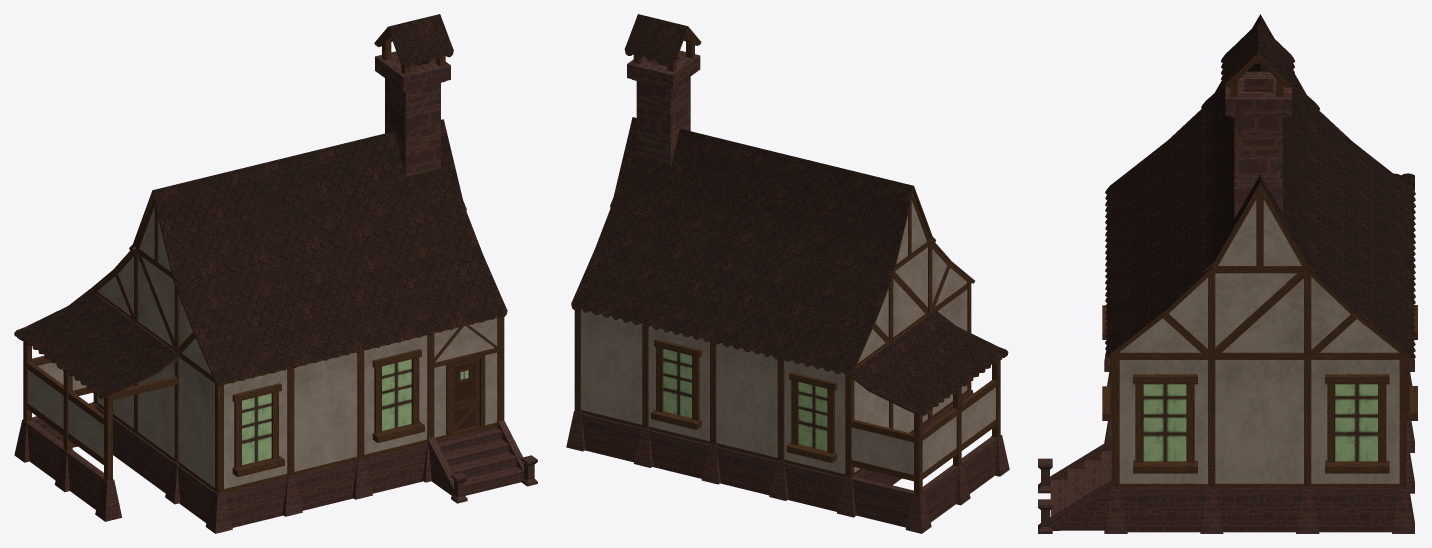
Rendered from small_house_db4bb7a9.glb.
3 views of the same model, side by side, from view 1: azimuth 30°, elevation 25°; view 2: azimuth 150°, elevation 25°; view 3: azimuth 270°, elevation 25° (orthographic). The views are drawn at different scales.
Parts seen in each view (by area): view 1: small_house_db4bb7a9; view 2: small_house_db4bb7a9; view 3: small_house_db4bb7a9.
Boxes of the visible parts, box(x1,y1,x2,y2) form: small_house_db4bb7a9: box(14, 14, 537, 533); small_house_db4bb7a9: box(566, 14, 1009, 533); small_house_db4bb7a9: box(1038, 14, 1417, 533).
Bounding box in the file's own units: 10.63 × 11.01 × 7.92.
Materials: 10 (10 with a texture image).
